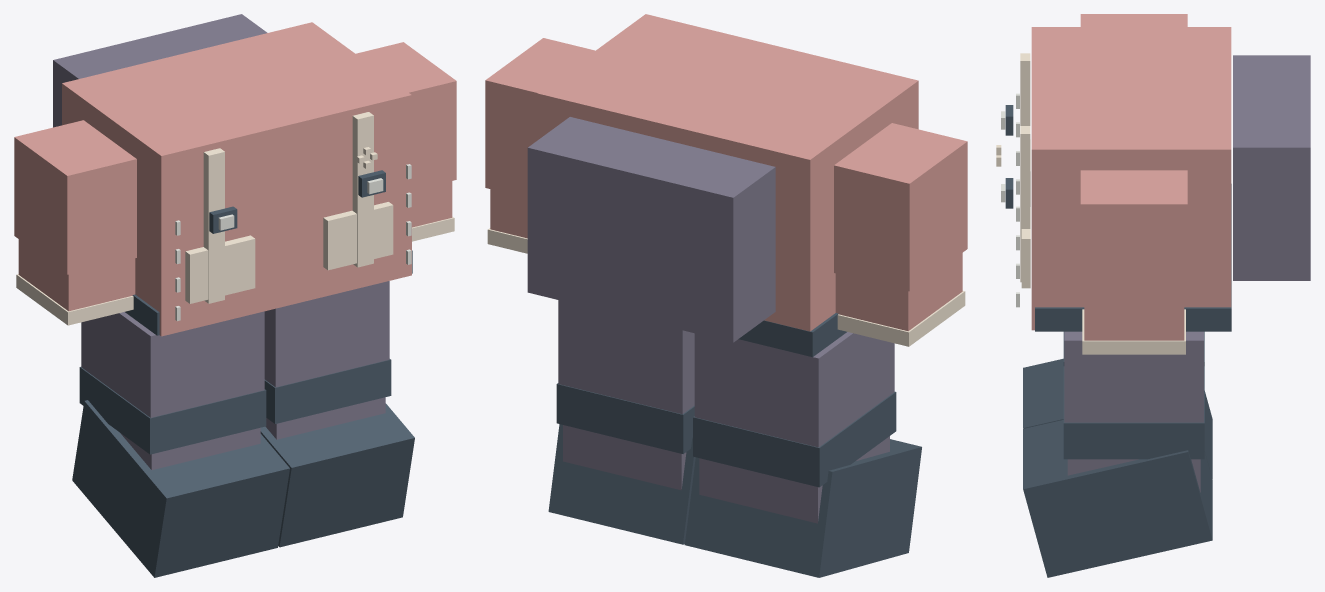
Rendered from explorer-coral.glb.
3 renders of one model, left to right at view 1: azimuth 30°, elevation 25°; view 2: azimuth 150°, elevation 25°; view 3: azimuth 270°, elevation 25°, orthographic. The views are drawn at different scales.
Parts seen in each view (by area): view 1: jacket, shoe-Right, upper-sleeve-Right, trouser-Right, shoe-Left, trouser-Left, upper-sleeve-Left, boot-cuff-Right, backpack, boot-cuff-Left, lower-sleeve-Right, pocket--1 (+9 smaller); view 2: jacket, backpack, upper-sleeve-Right, shoe-Right, trouser-Right, trouser-Left, boot-cuff-Right, upper-sleeve-Left, shoe-Left, boot-cuff-Left, lower-sleeve-Right, lower-trouser-Right (+5 smaller); view 3: jacket, shoe-Left, backpack, upper-sleeve-Left, trouser-Left, boot-cuff-Left, lower-sleeve-Left, shoe-Right, trail-belt, cuff-Left, upper-sleeve-Right, backpack-strap.001 (+3 smaller).
Part boxes in pixels (box(x1,y1,x2,y2)): jacket: box(62, 22, 411, 336); shoe-Right: box(72, 400, 289, 577); upper-sleeve-Right: box(14, 120, 136, 274); trouser-Right: box(81, 311, 264, 417); shoe-Left: box(260, 403, 414, 547); trouser-Left: box(264, 281, 389, 387); upper-sleeve-Left: box(356, 42, 456, 190); boot-cuff-Right: box(79, 367, 266, 454); backpack: box(53, 14, 267, 127); boot-cuff-Left: box(264, 359, 391, 423); lower-sleeve-Right: box(18, 239, 135, 311); pocket--1: box(185, 235, 255, 303); jacket: box(537, 14, 918, 331); backpack: box(527, 117, 775, 342); upper-sleeve-Right: box(834, 123, 967, 291); shoe-Right: box(684, 439, 921, 577); trouser-Right: box(694, 332, 894, 447); trouser-Left: box(558, 300, 694, 414); boot-cuff-Right: box(693, 391, 896, 487); upper-sleeve-Left: box(485, 38, 594, 197); shoe-Left: box(548, 424, 695, 544); boot-cuff-Left: box(556, 383, 694, 453); lower-sleeve-Right: box(835, 253, 962, 331); lower-trouser-Right: box(699, 436, 889, 523); jacket: box(1031, 27, 1231, 330); shoe-Left: box(1023, 420, 1212, 577); backpack: box(1233, 55, 1310, 280); upper-sleeve-Left: box(1080, 170, 1187, 303); trouser-Left: box(1064, 331, 1203, 422); boot-cuff-Left: box(1063, 366, 1204, 459); lower-sleeve-Left: box(1084, 303, 1184, 340); shoe-Right: box(1023, 358, 1212, 478); trail-belt: box(1035, 184, 1231, 331); cuff-Left: box(1082, 309, 1185, 354); upper-sleeve-Right: box(1080, 14, 1187, 26); backpack-strap.001: box(1020, 126, 1030, 282).
Size of the model in its own units: 1.07 by 1.13 by 0.748.
